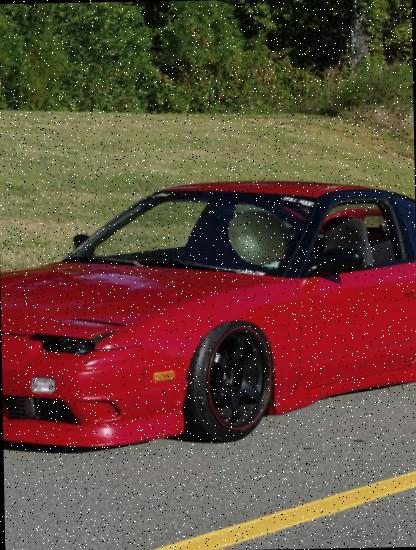Mango: (225, 204, 292, 270)
